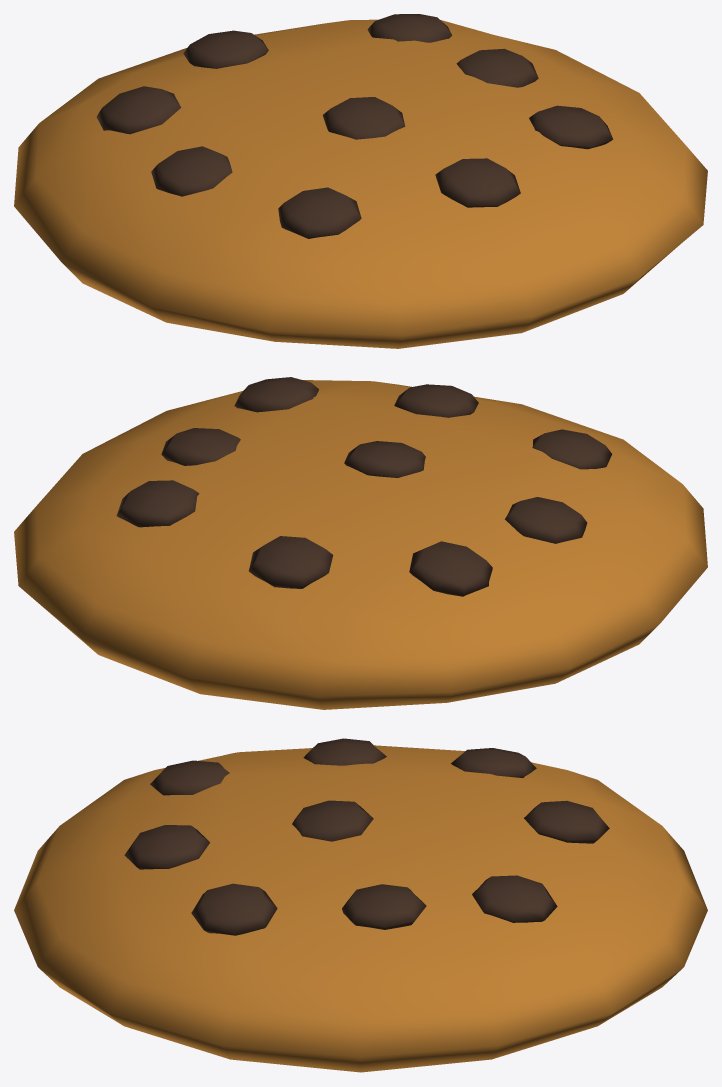
Rendered from cookie.fbx.
3 renders of one model, top to bottom at view 1: azimuth 30°, elevation 25°; view 2: azimuth 150°, elevation 25°; view 3: azimuth 270°, elevation 25°, orthographic.
Visible parts, largest first — view 1: Cube.037; view 2: Cube.037; view 3: Cube.037.
Boxes of the visible parts, left/top/right/bottom form: Cube.037: left=14, top=14, right=707, bottom=348; Cube.037: left=14, top=377, right=707, bottom=709; Cube.037: left=14, top=738, right=707, bottom=1072.
Bounding box in the file's own units: 26.12 × 5.28 × 26.12.
